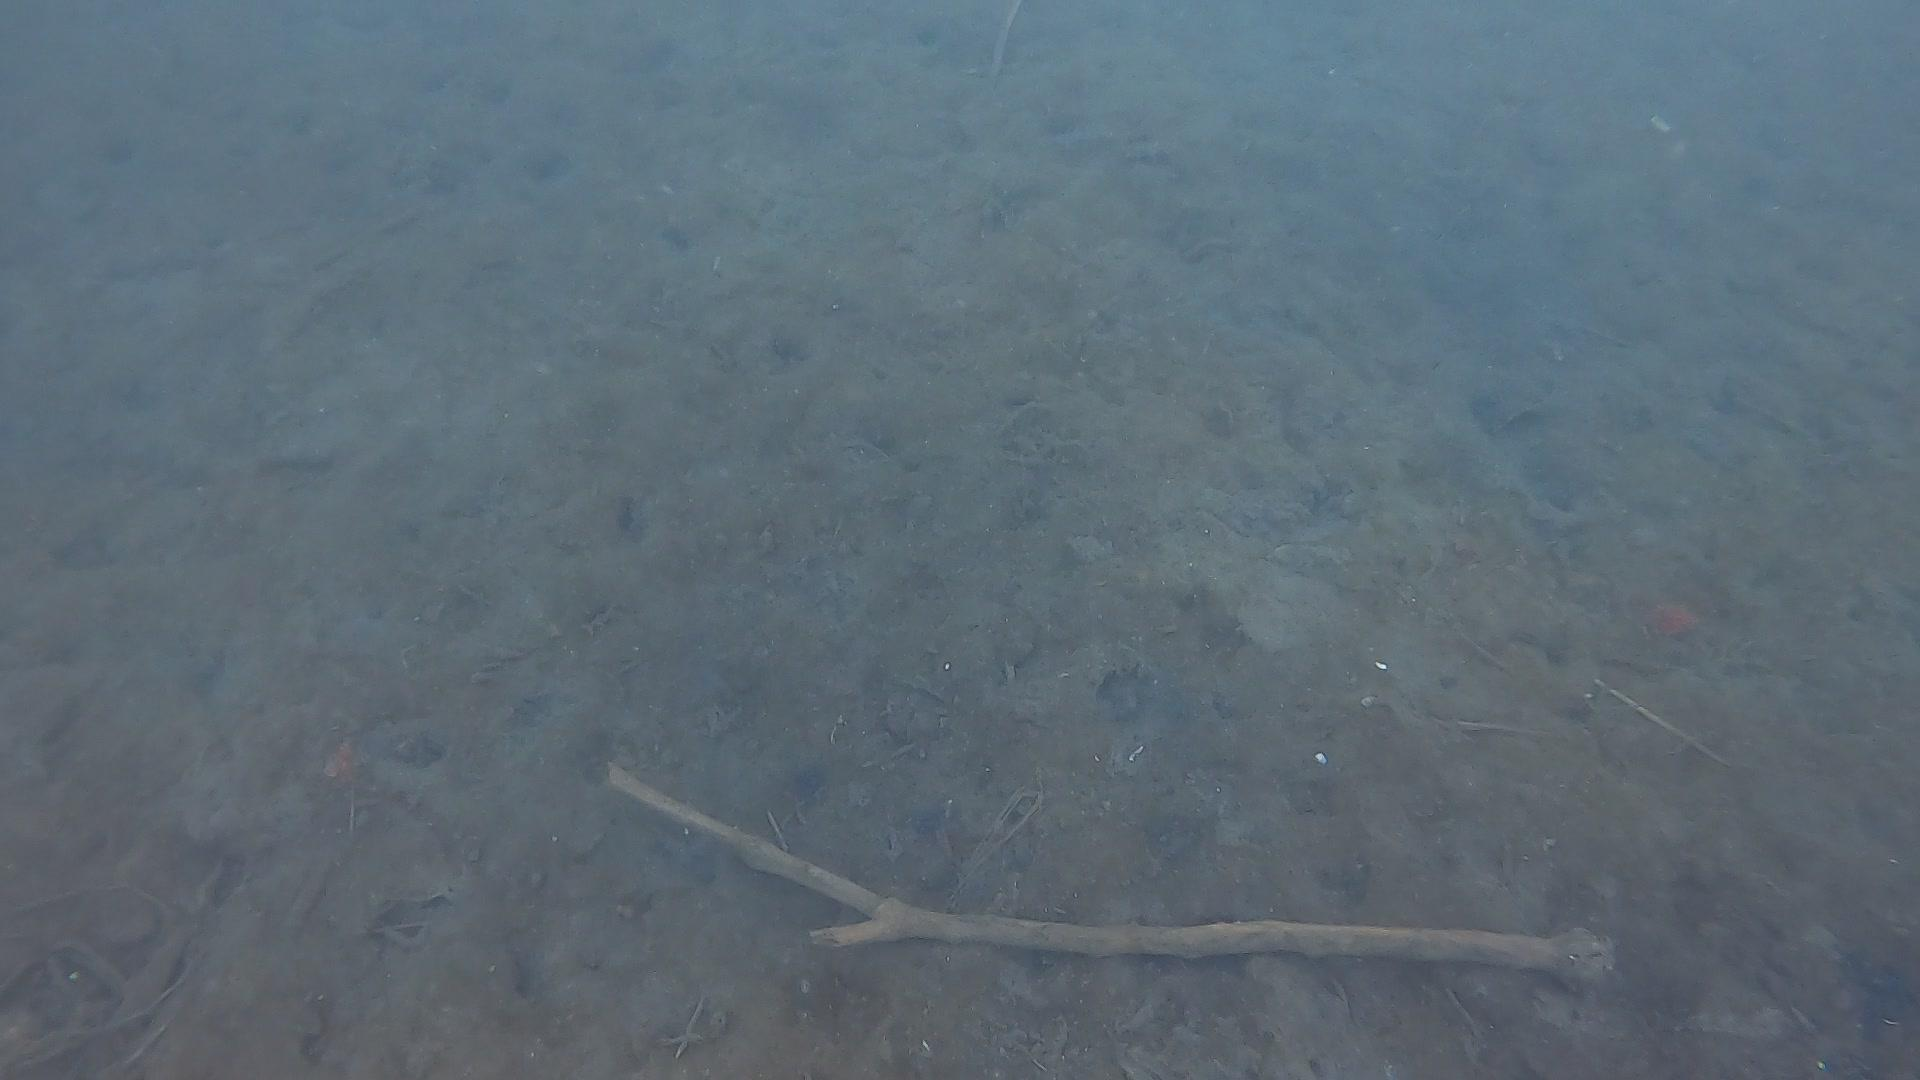wood: (603, 756, 1617, 994)
